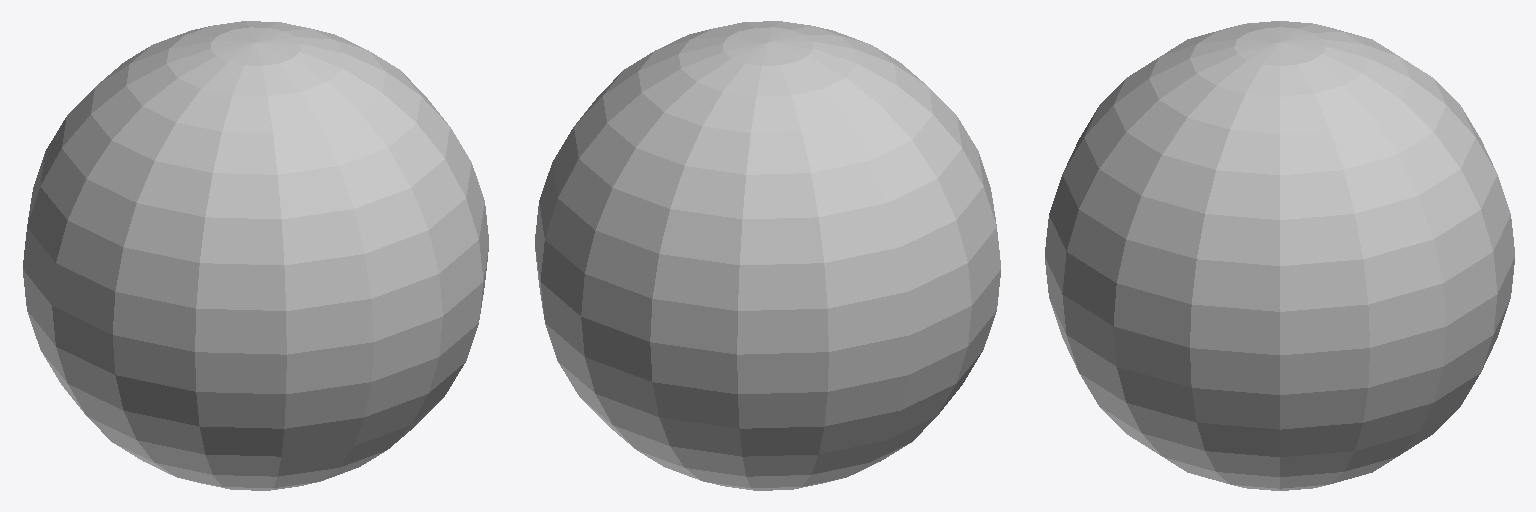
File: sphe.obj
The picture shows the model from 3 angles: view 1: azimuth 30°, elevation 25°; view 2: azimuth 150°, elevation 25°; view 3: azimuth 270°, elevation 25°; orthographic projection.
Size of the model in its own units: 1 by 1 by 1.